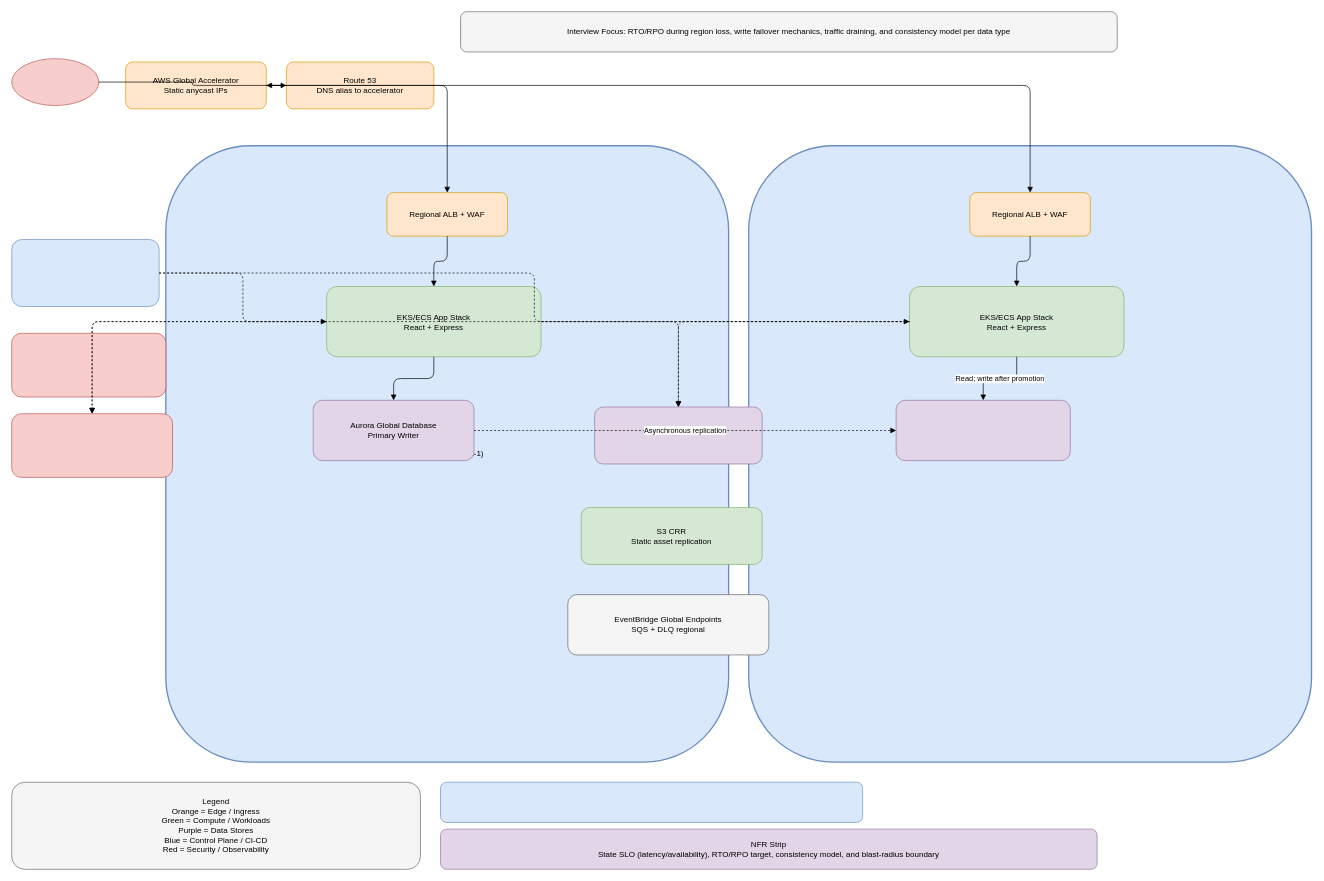
Some shapes in this 1324 by 881 pixel diagram are drawn without their labels. The centre of each missing label's shape, as x and y in pixels:
Aurora Global Database Secondary cluster (read-only until promoted): (x=982, y=430)
Centralized Observability CloudWatch cross-region, OpenSearch, SIEM: (x=92, y=445)
DynamoDB Global Tables Session/Profile data: (x=678, y=435)
GitHub Actions Multi-region deploy + safe rollout: (x=85, y=273)
Global Users: (x=55, y=82)
Multi-account governance Control Tower, SCPs, IAM Identity Center: (x=88, y=365)
Trust Boundaries Internet -> Edge -> Regional App Tiers -> Regional Data Tiers: (x=651, y=802)
